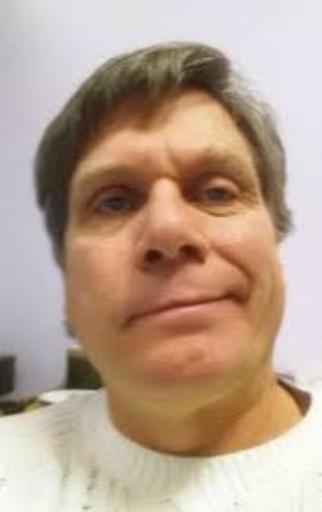left_eye: (190, 184, 241, 208)
left_lip_corner: (219, 288, 242, 310)
right_eye: (90, 194, 137, 219)
right_lip_corner: (118, 314, 135, 335)
